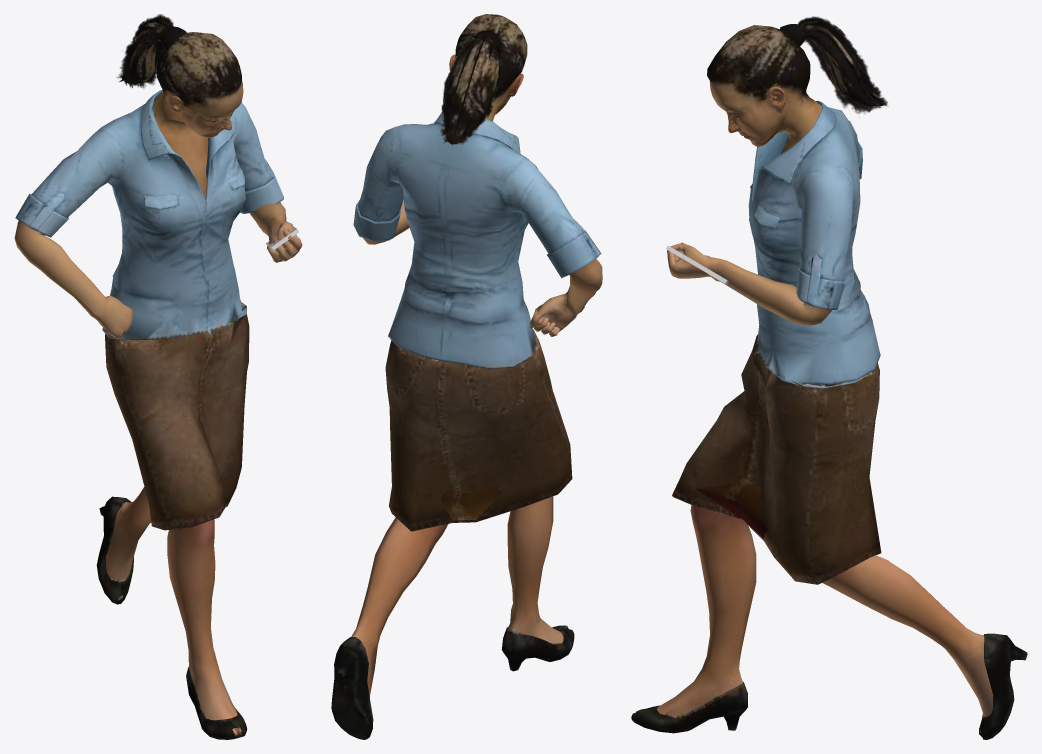
3 renders of one model, left to right at view 1: azimuth 30°, elevation 25°; view 2: azimuth 150°, elevation 25°; view 3: azimuth 270°, elevation 25°, orthographic. The views are drawn at different scales.
Visible parts, largest first — view 1: p04520; view 2: p04520; view 3: p04520.
Boxes of the visible parts, bbox=[...] form: p04520: bbox=[14, 14, 302, 739]; p04520: bbox=[331, 14, 602, 739]; p04520: bbox=[631, 16, 1027, 739].
Bounding box in the file's own units: 0.6442 × 1.6 × 0.8093.
Materials: 1 (1 with a texture image).
